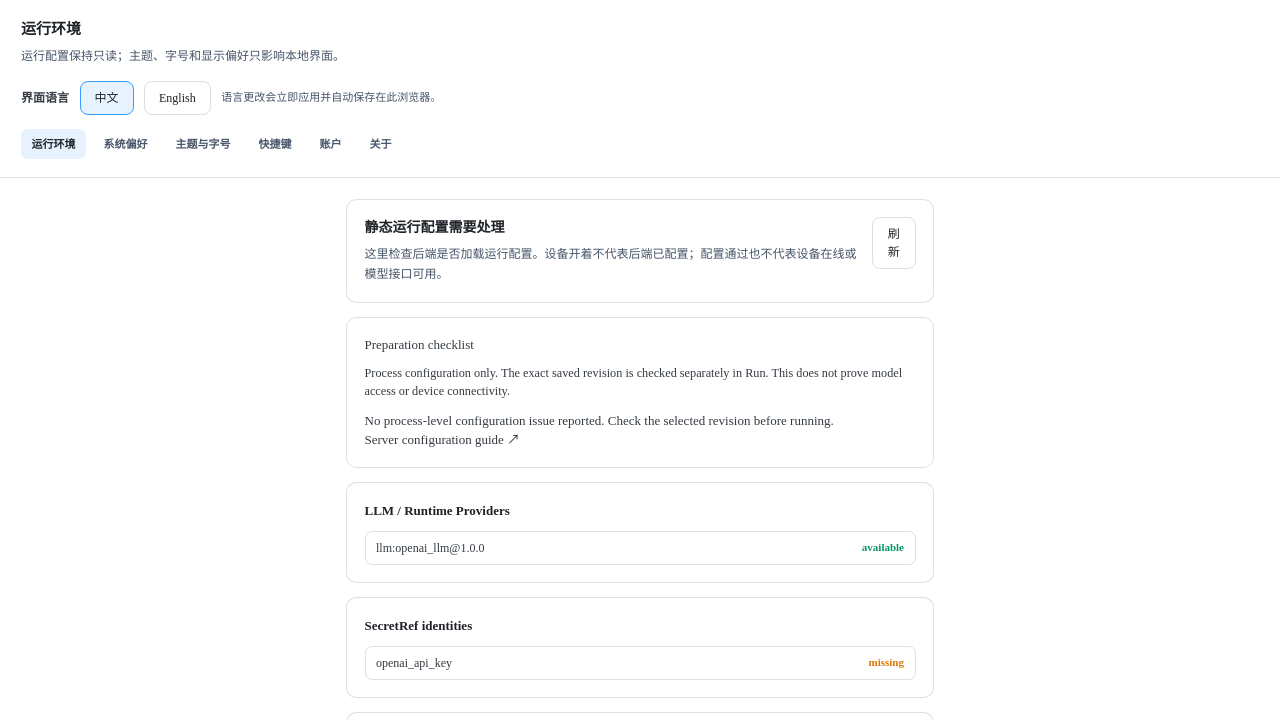
Test: Settings runtime environment › switches language immediately with local-only persistence and keeps the active section
The width and height of the screenshot is (1280, 720).
Click the button "主题与字号": (203, 144) [165, 128, 241, 159]
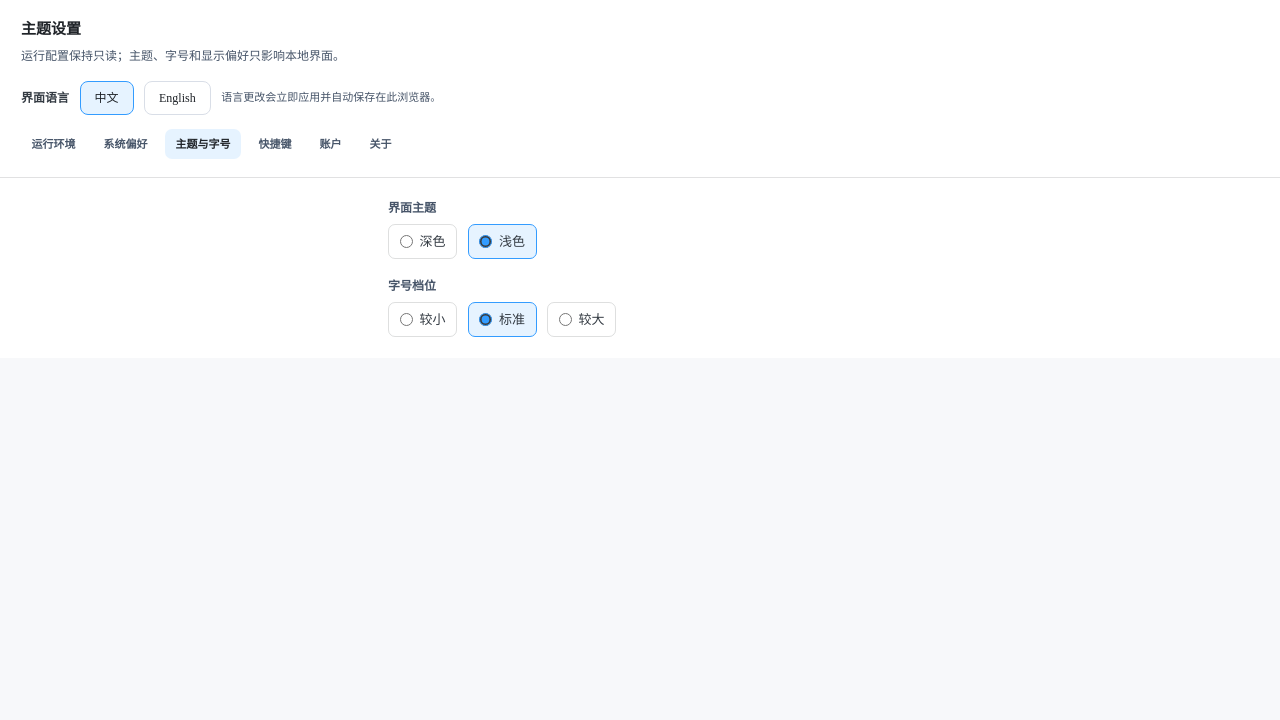
Click the button "English": (177, 98) [144, 80, 211, 114]
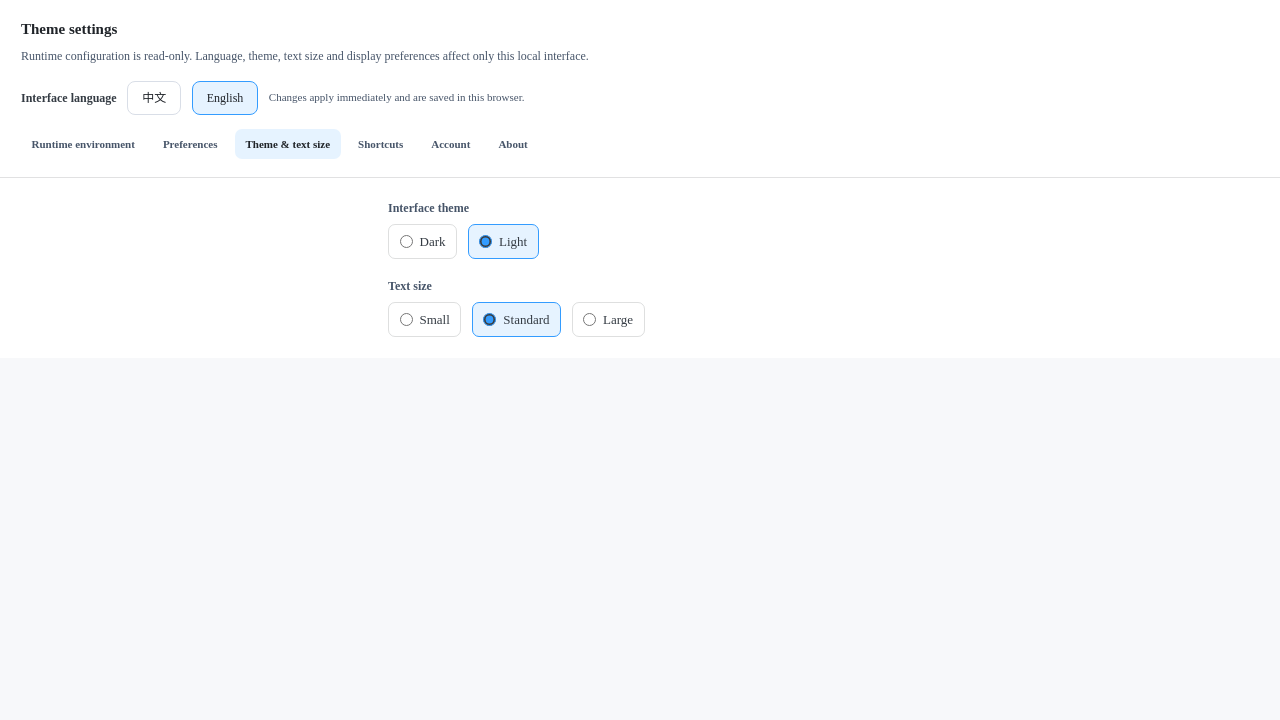
Expected: the button "English" is shown, [192, 80, 258, 114]
Result: the heading "Theme settings" is shown at [21, 20, 117, 36]
Result: the text "Interface theme" is shown at [388, 200, 469, 214]
Click the button "中文": (154, 98) [127, 80, 181, 114]
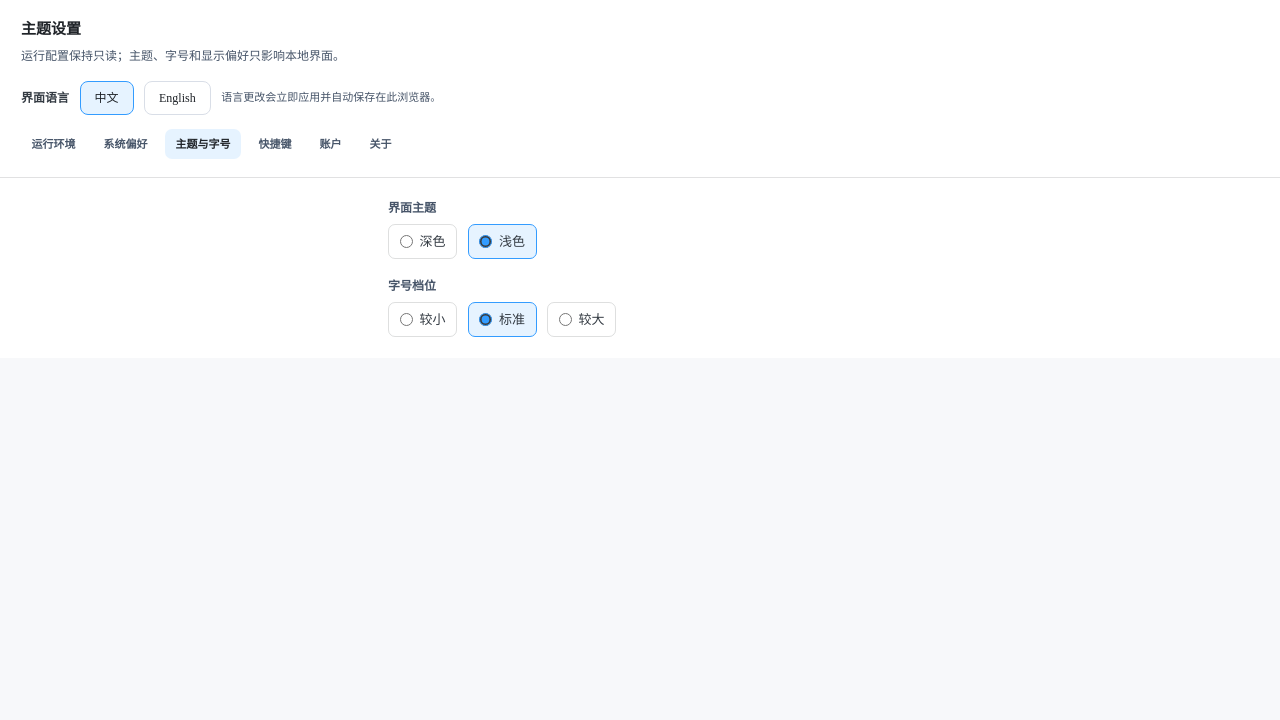
Result: the heading "主题设置" is shown at [21, 20, 81, 36]
